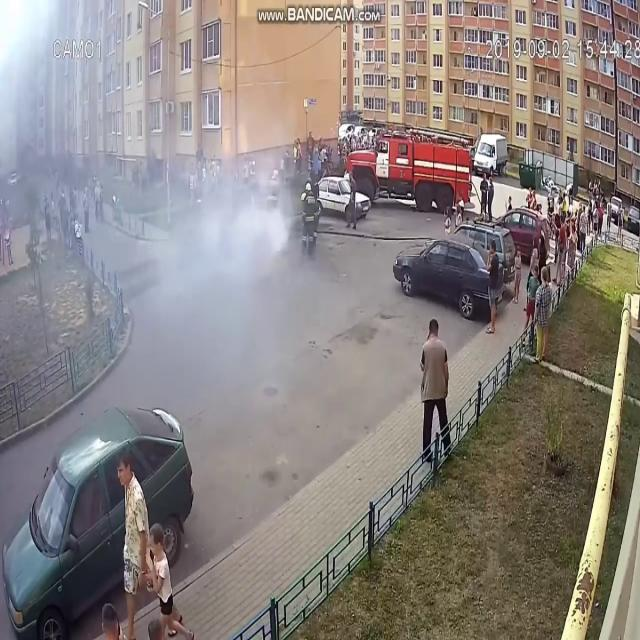Smoke: (126, 114, 313, 504)
